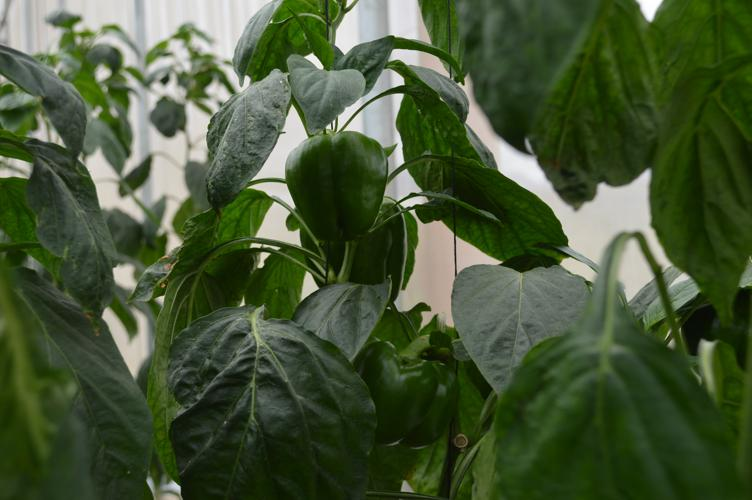BellPepper: (350, 335, 460, 467), (280, 128, 386, 252)
